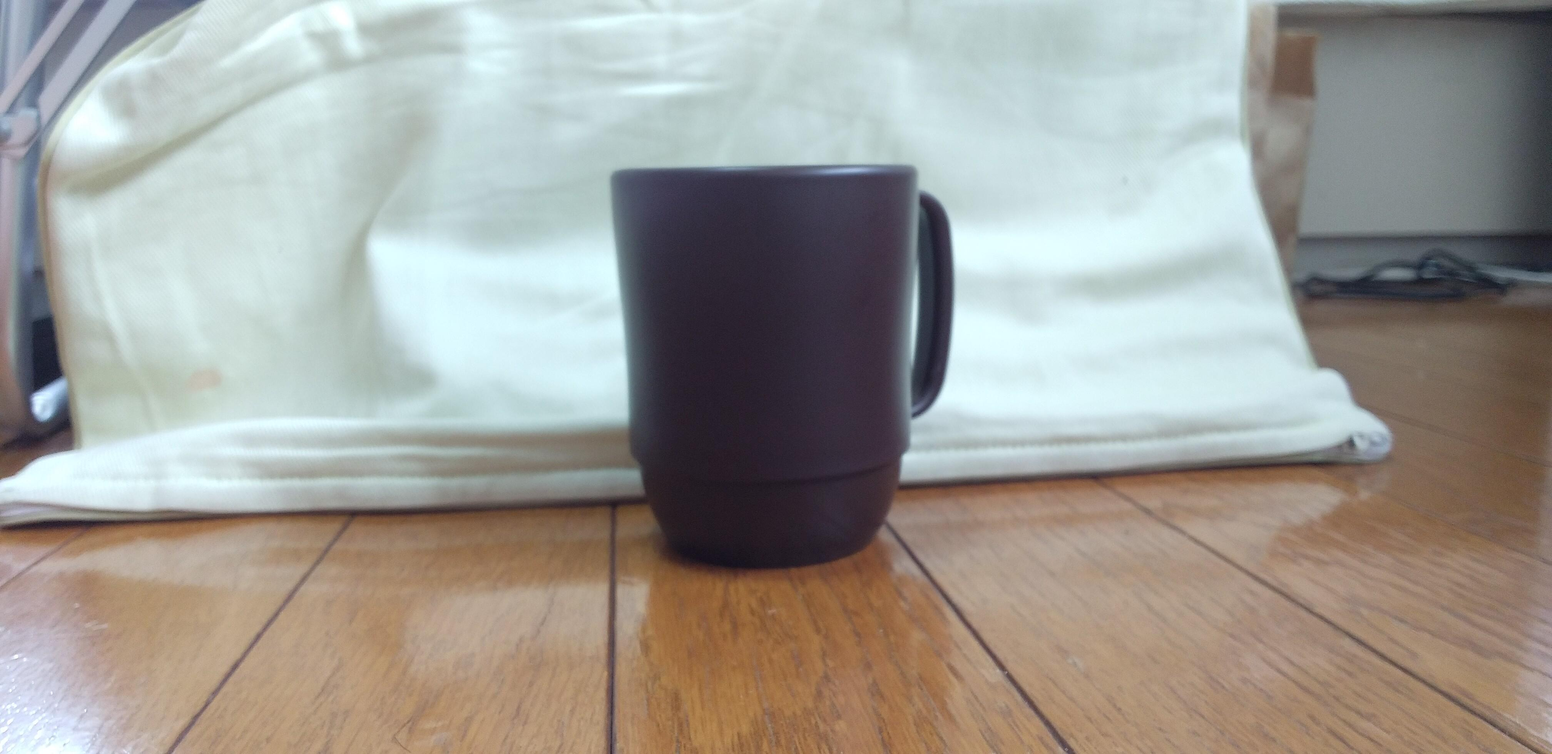mug-real100-3d100: (611, 164, 955, 568)
